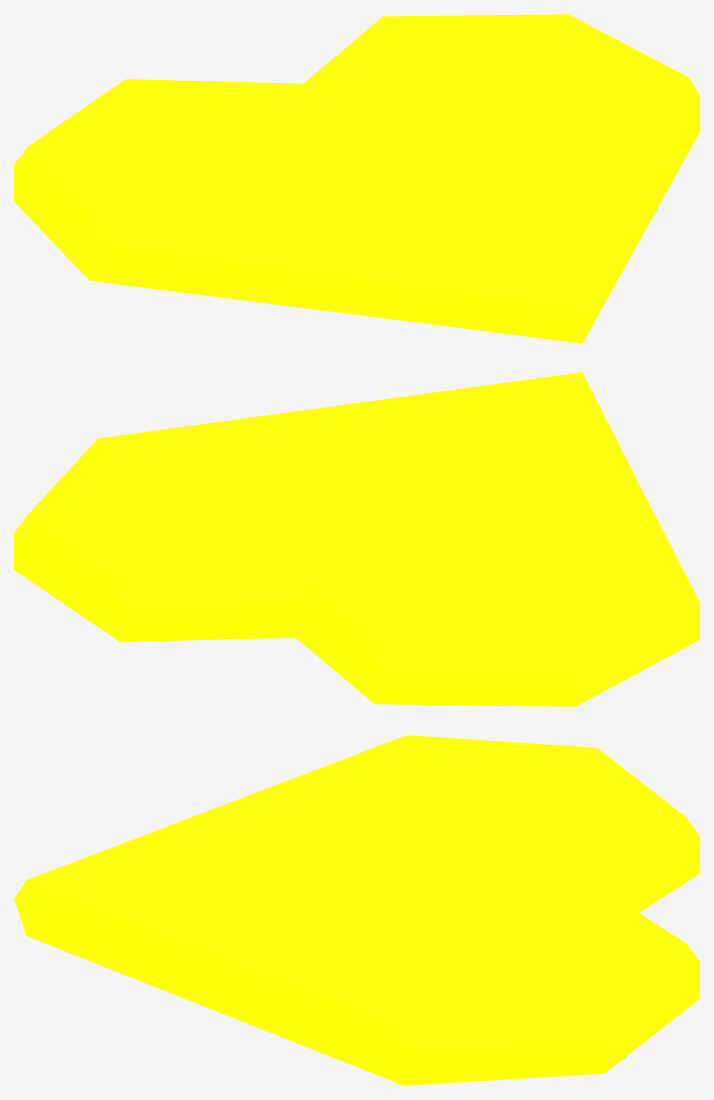
The model's file is gingerbread-heart-a.glb.
3 renders of one model, top to bottom at view 1: azimuth 30°, elevation 25°; view 2: azimuth 150°, elevation 25°; view 3: azimuth 270°, elevation 25°, orthographic.
Parts seen in each view (by area): view 1: gingerbread_heart_a; view 2: gingerbread_heart_a; view 3: gingerbread_heart_a.
Part boxes in pixels (x1,y1,x2,y2): gingerbread_heart_a: (14,14,699,343); gingerbread_heart_a: (14,372,699,706); gingerbread_heart_a: (14,735,699,1085).
Bounding box in the file's own units: 0.0595 × 0.00519 × 0.0577.
1 material, 1 textured.
